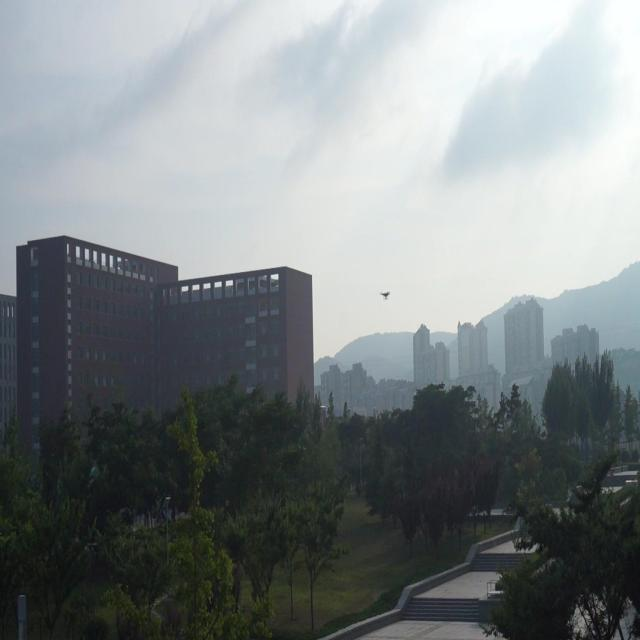drone: (379, 285, 391, 300)
